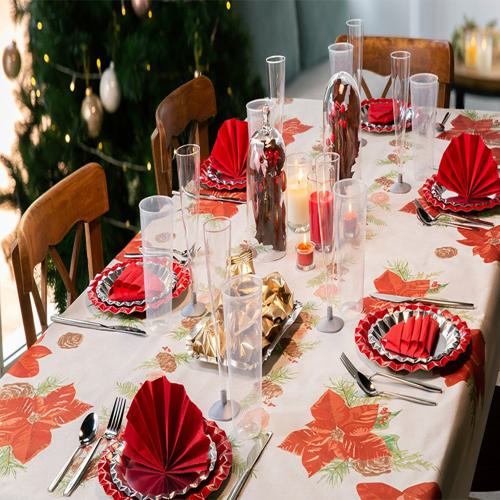copa: (202, 221, 243, 424), (313, 154, 347, 333), (175, 146, 207, 320), (387, 52, 411, 196), (345, 18, 364, 89), (268, 56, 284, 134)
vaso: (140, 198, 175, 341), (332, 181, 367, 310), (410, 76, 436, 181)
